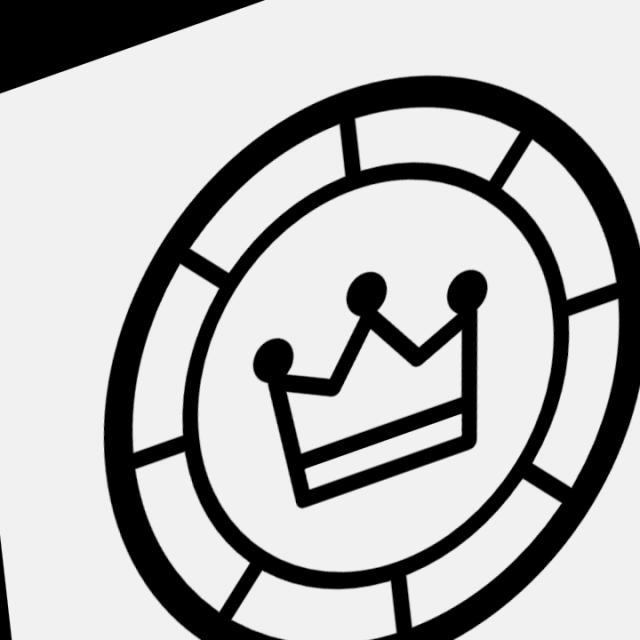coin: (74, 70, 640, 640)
